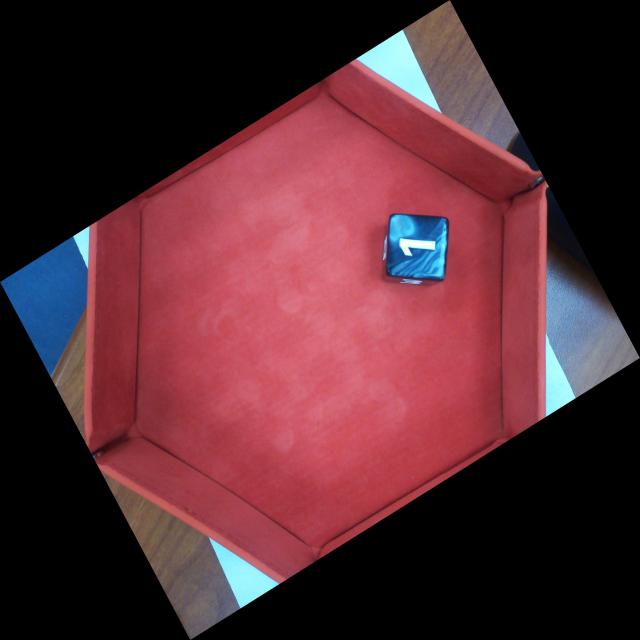dice: (391, 214, 447, 279)
